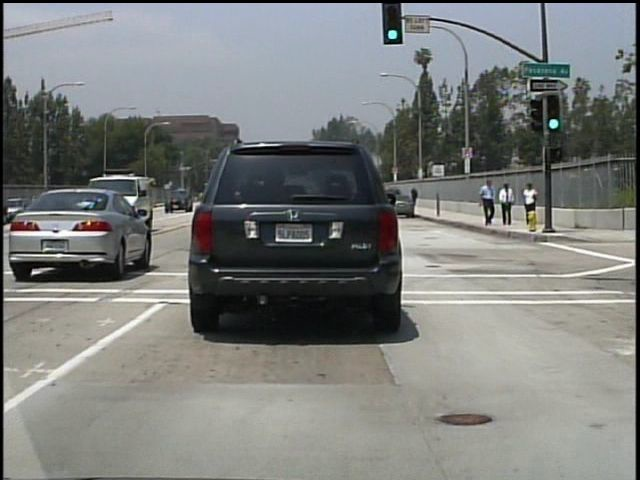person: (479, 179, 498, 232), (498, 180, 517, 227), (522, 181, 539, 214), (410, 187, 421, 210)
